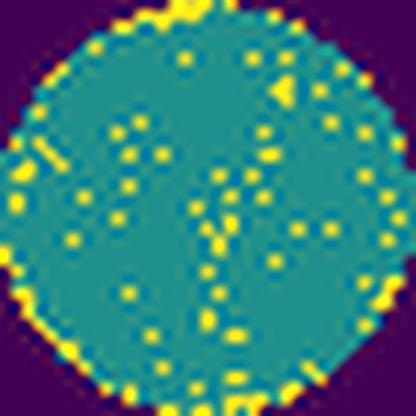Edge-Loc: (110, 0, 215, 39)
